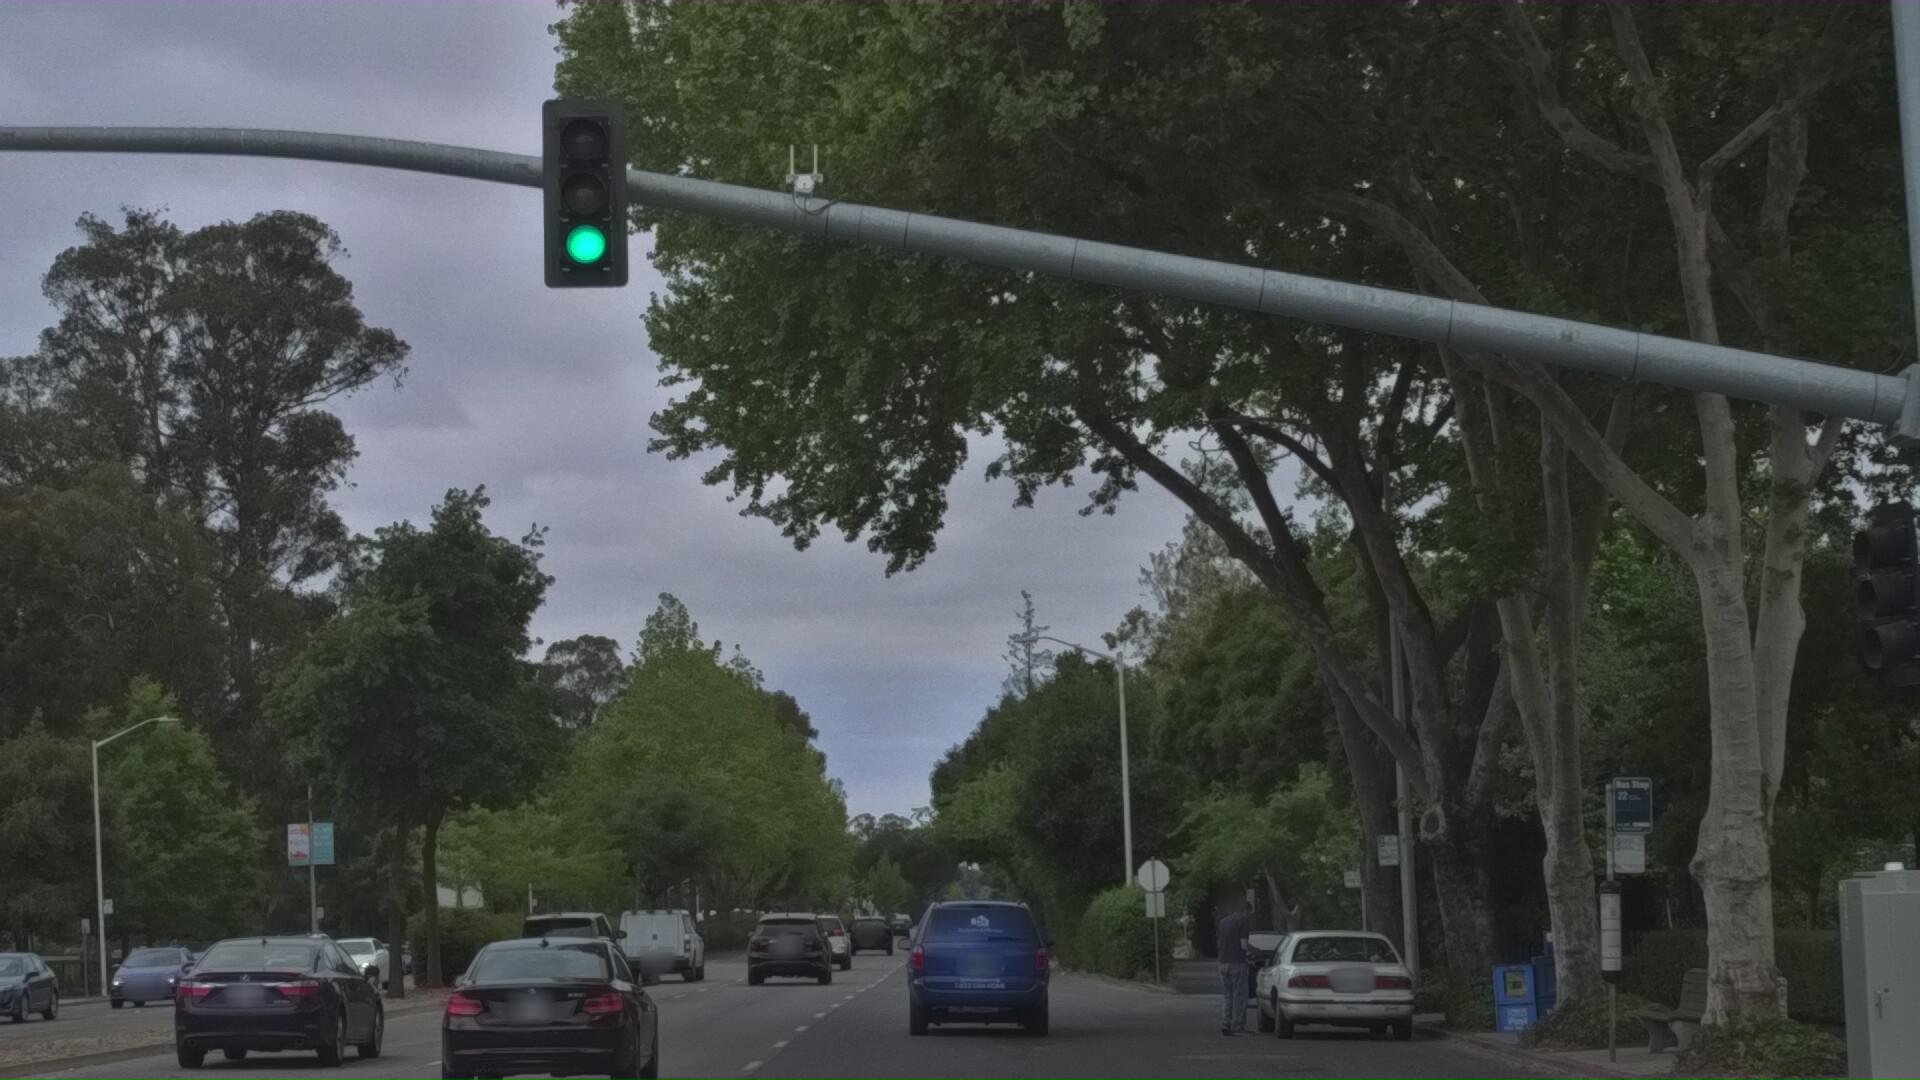car: (169, 955, 411, 1080), (425, 967, 687, 1080), (899, 916, 1069, 1080), (754, 949, 852, 1040)
